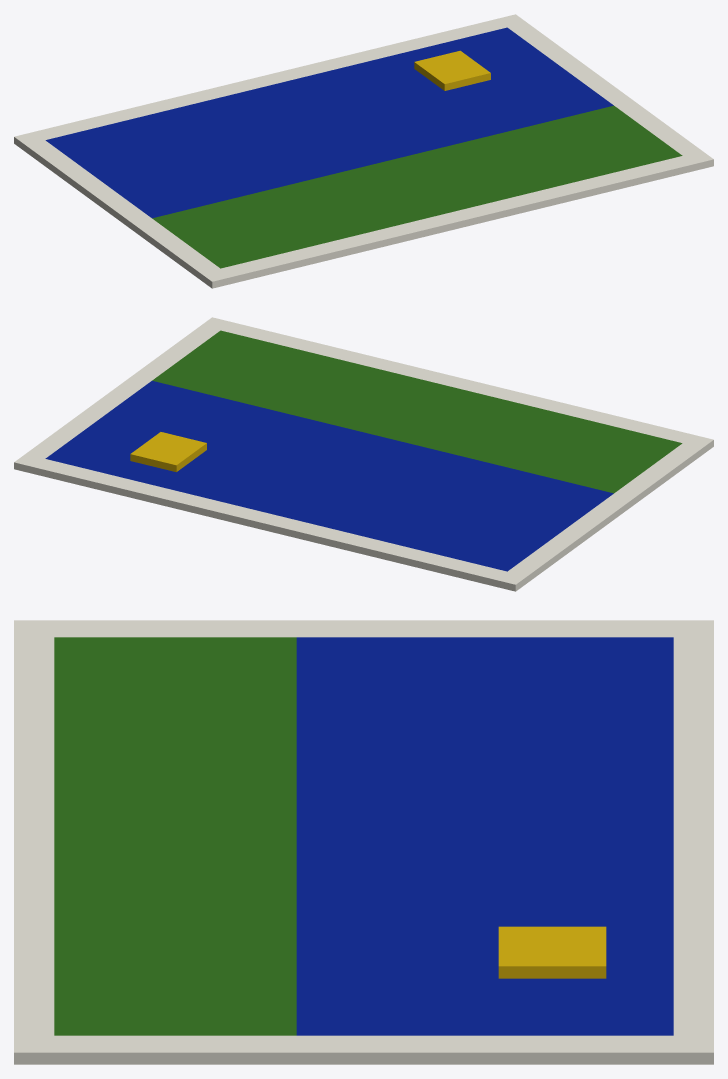
The model's file is postcard.glb.
The picture shows the model from 3 angles, top to bottom: view 1: azimuth 30°, elevation 25°; view 2: azimuth 150°, elevation 25°; view 3: azimuth 270°, elevation 25°; orthographic projection. The views are drawn at different scales.
Parts seen in each view (by area): view 1: postcard:compound; view 2: postcard:compound; view 3: postcard:compound.
Part boxes in pixels (left/top/right/bottom): postcard:compound: left=14, top=14, right=713, bottom=288; postcard:compound: left=14, top=317, right=713, bottom=591; postcard:compound: left=14, top=620, right=713, bottom=1064.
Size of the model in its own units: 0.152 by 0.004 by 0.104.
